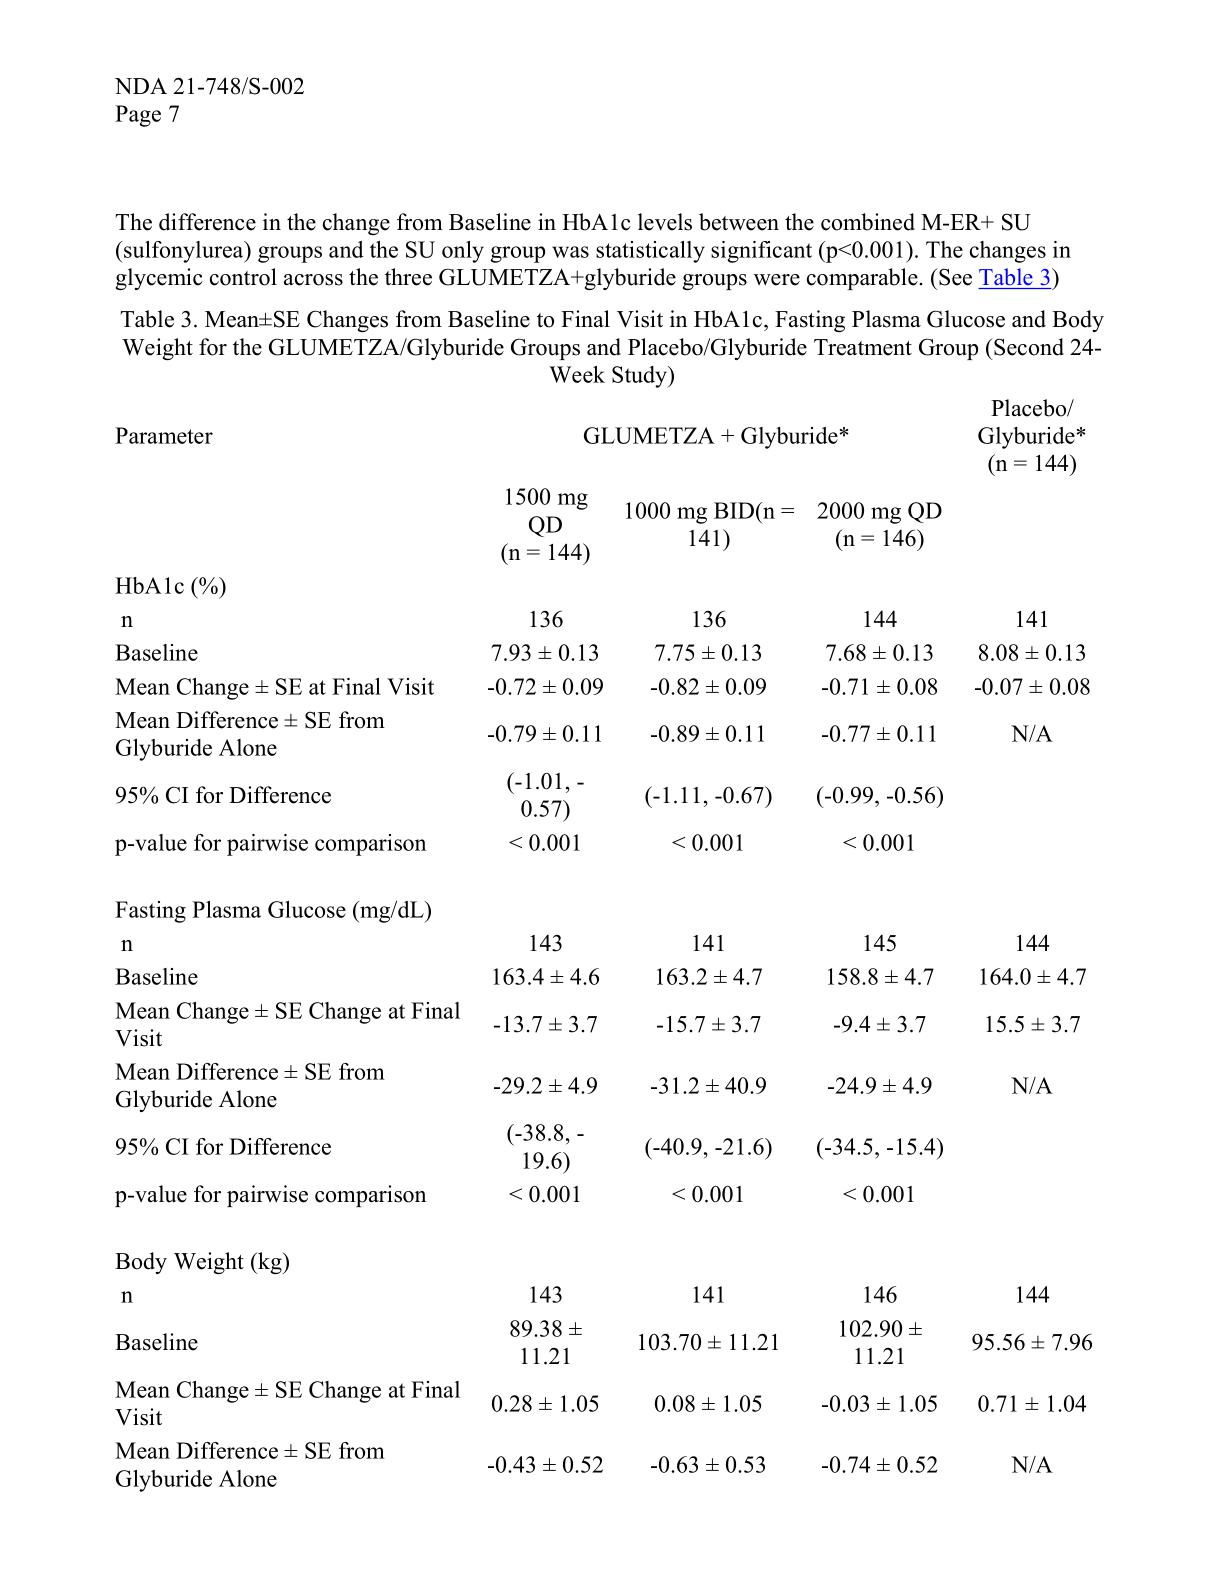nolines: (114, 391, 1095, 1490)
